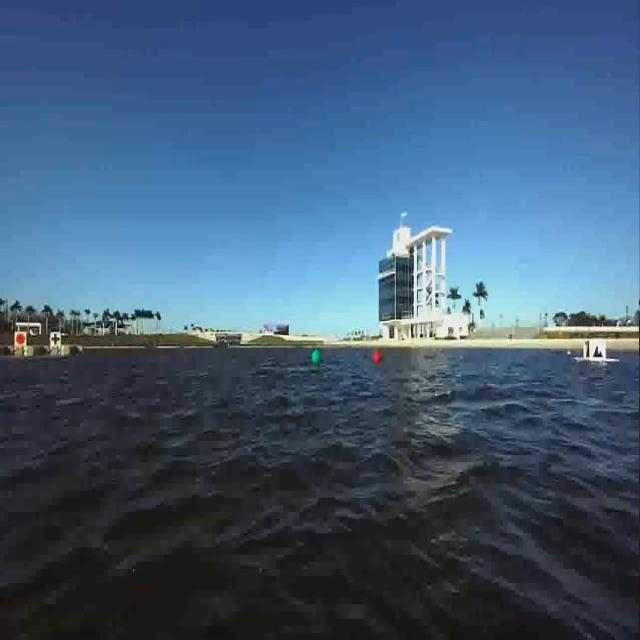green-buoy: (312, 350, 321, 365)
red-buoy: (372, 348, 383, 368)
